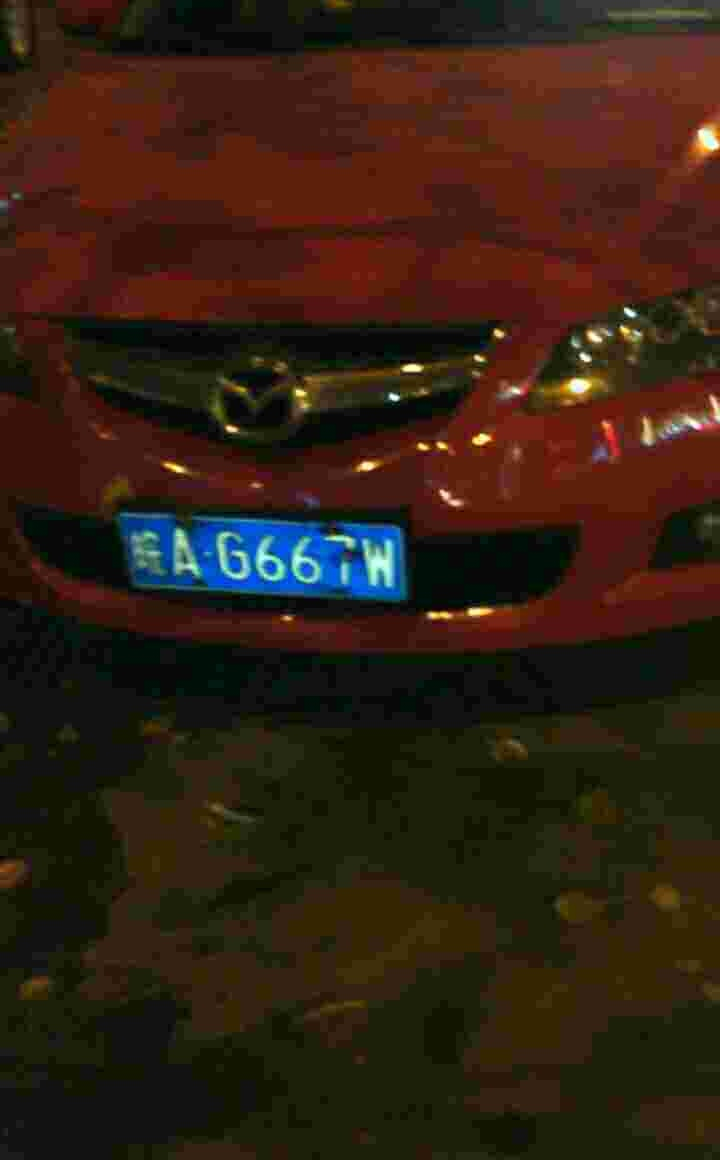license_plate: (119, 510, 409, 604)
